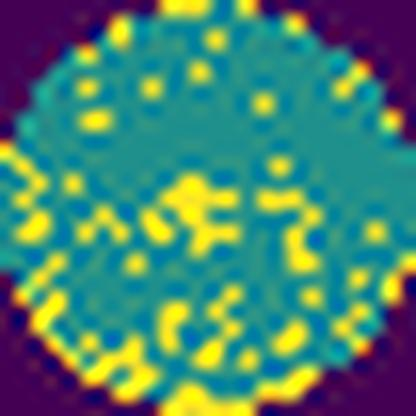Center: (132, 172, 242, 259)
